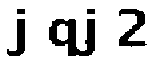2: (114, 6, 150, 53)
j: (76, 6, 106, 55), (5, 6, 32, 60)
q: (47, 17, 78, 59)
